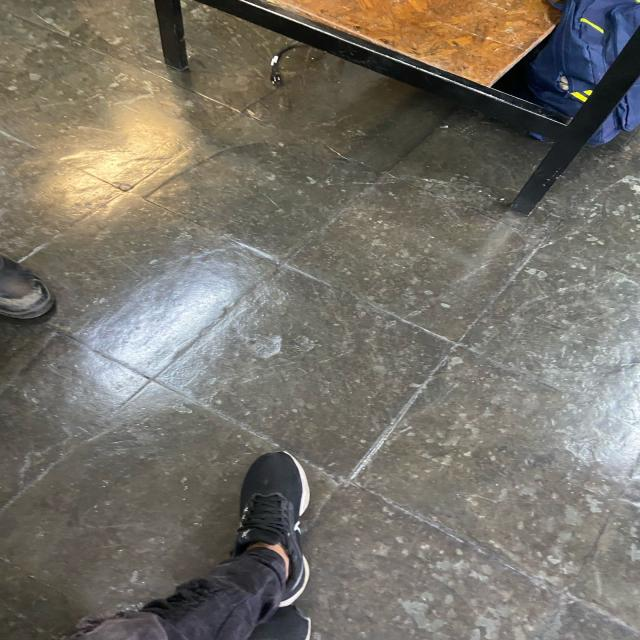BOTA: (1, 247, 55, 319)
SEM BOTA: (230, 443, 311, 607), (225, 606, 333, 639)
